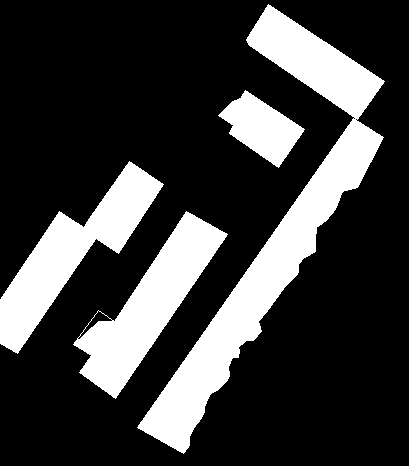parkingspot: (137, 118, 383, 453), (73, 211, 227, 398), (246, 4, 384, 119), (0, 211, 97, 353), (82, 161, 163, 253), (218, 90, 304, 167)
